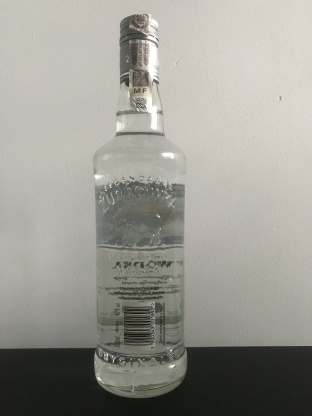nakretka: (117, 12, 161, 84)
